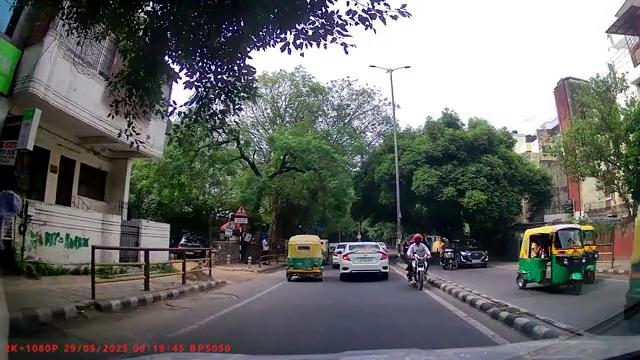motorcycle_with_helmet: (404, 232, 431, 292)
